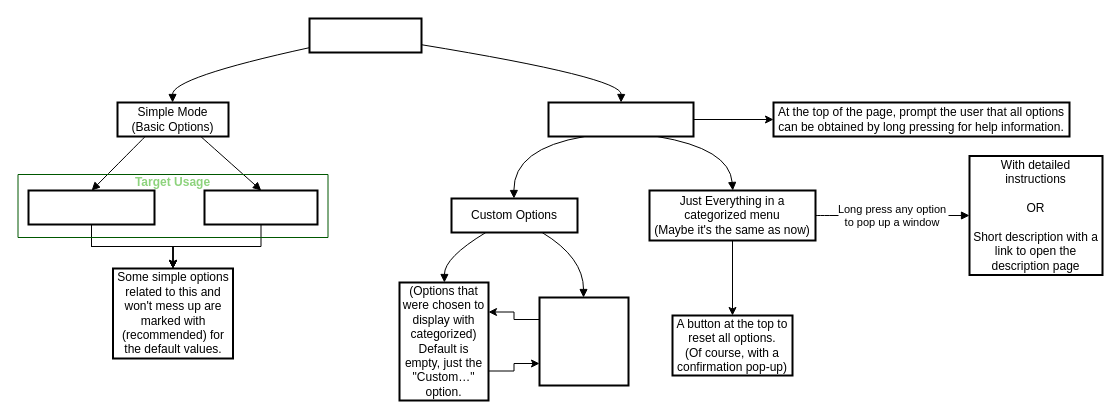
This 1120x418 diagram has some shape labels left out. Here are the shapes that lost their labels. From the top down, the box of each, then its label:
(308, 17, 422, 53): Options Menu
(547, 101, 694, 137): Advanced Mode (All Options)
(27, 189, 155, 225): Alarms
(203, 189, 318, 225): Sleep Tracking
(538, 296, 629, 386): Display all available options with combo boxes in a categorized menu
